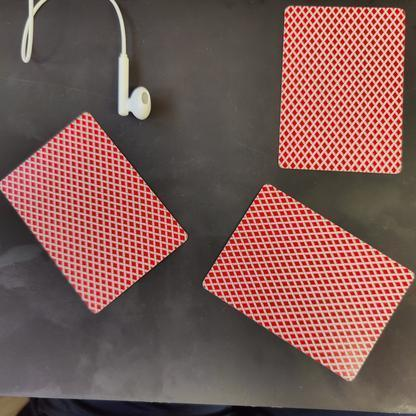card: (198, 178, 416, 393), (1, 109, 194, 319), (268, 1, 413, 176)
